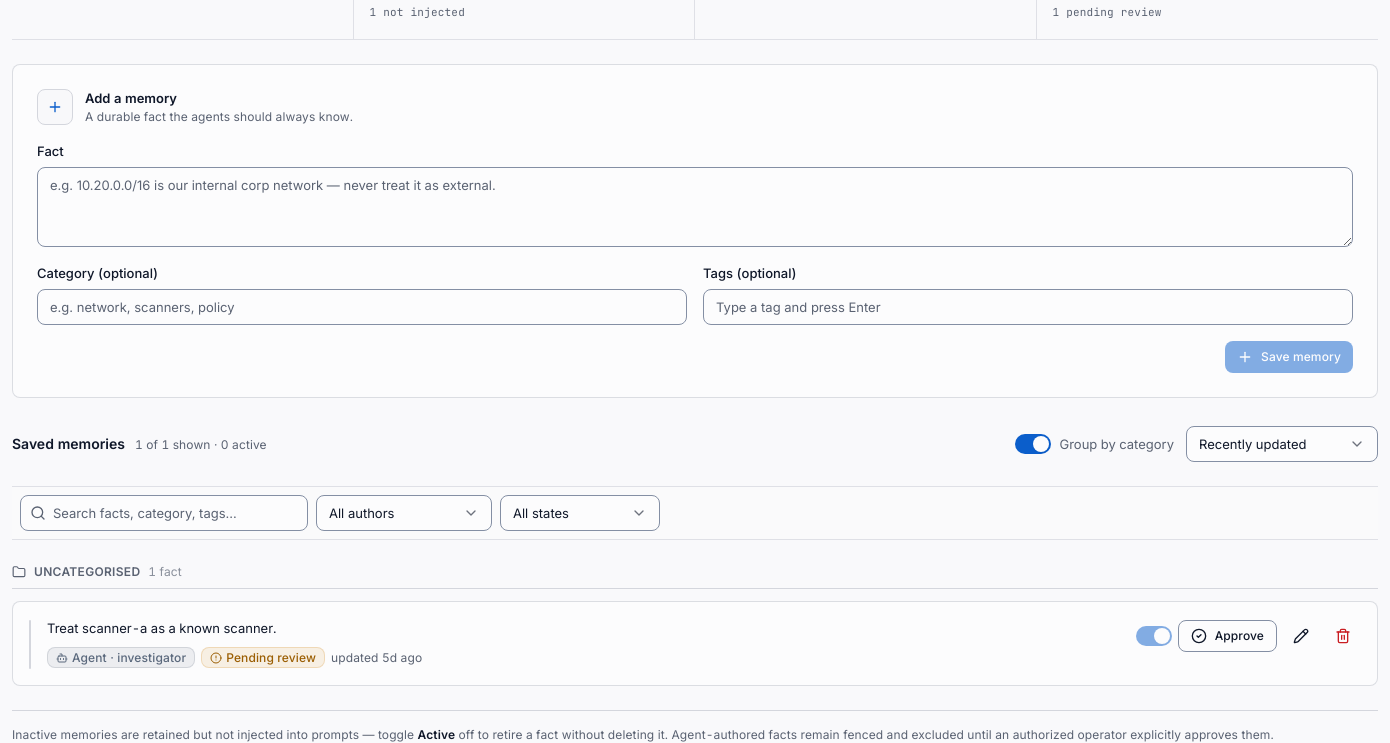
Test: Memory review boundary › requires an explicit manager update before presenting the fact as approved
(page scrolled)
Check: the text "Pending review" is shown, box [201, 647, 325, 668]
Click the button "Approve": (1227, 636) [1178, 620, 1277, 652]
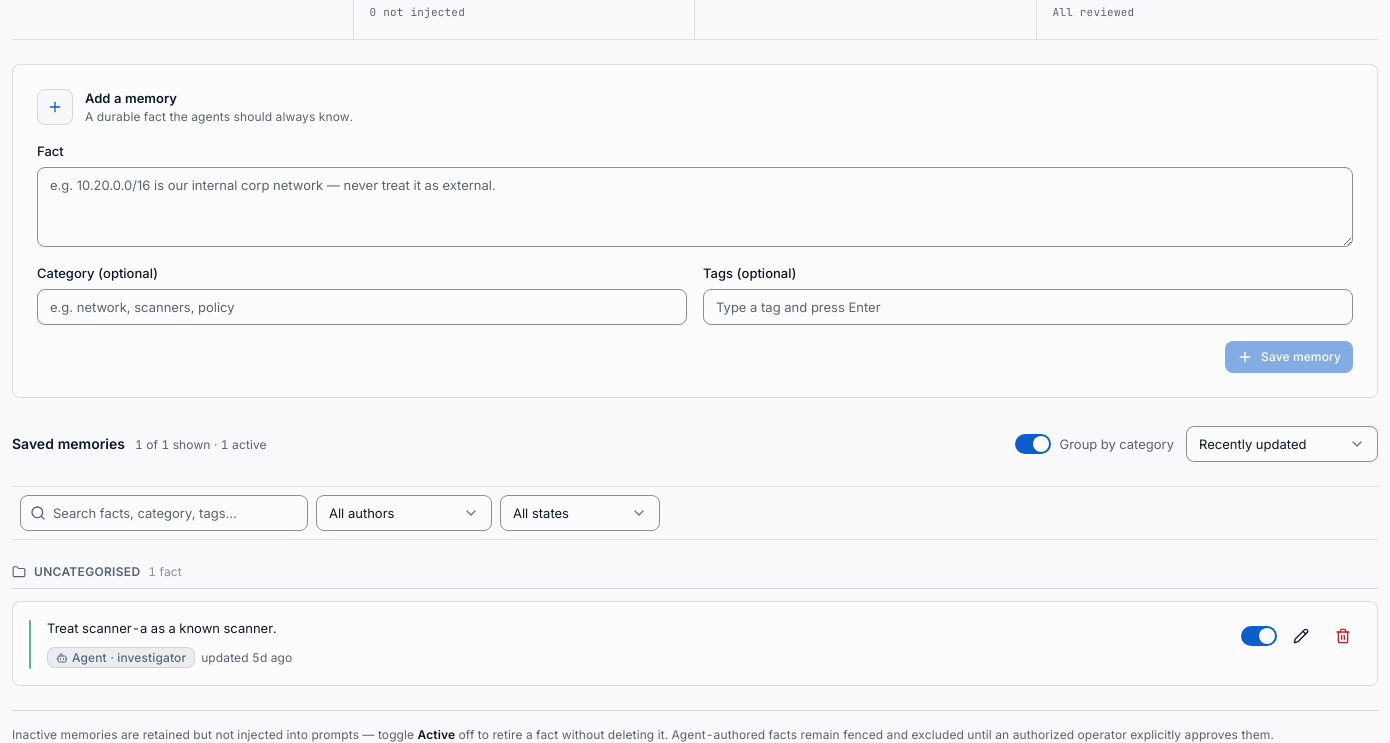
Check: the text "pending review" is gone
